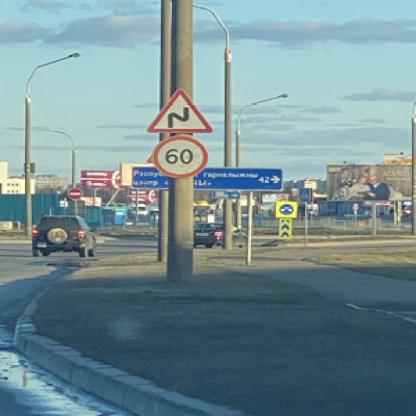speedlimit: (150, 134, 206, 176)
